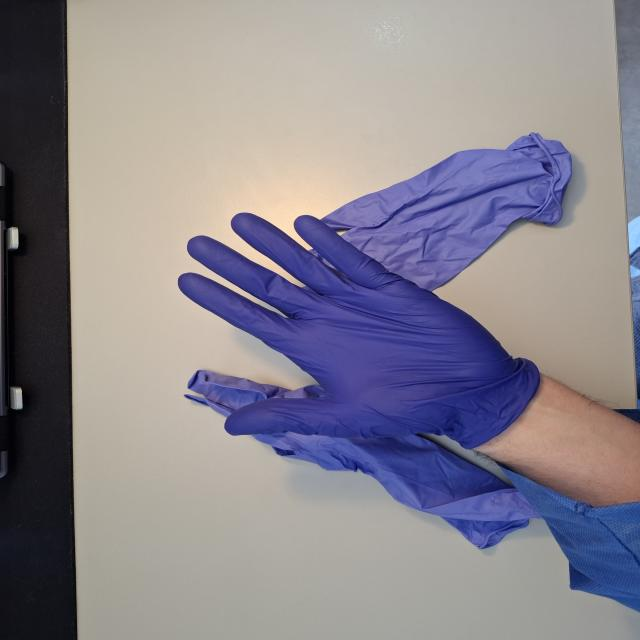glove_on: (174, 209, 530, 448)
